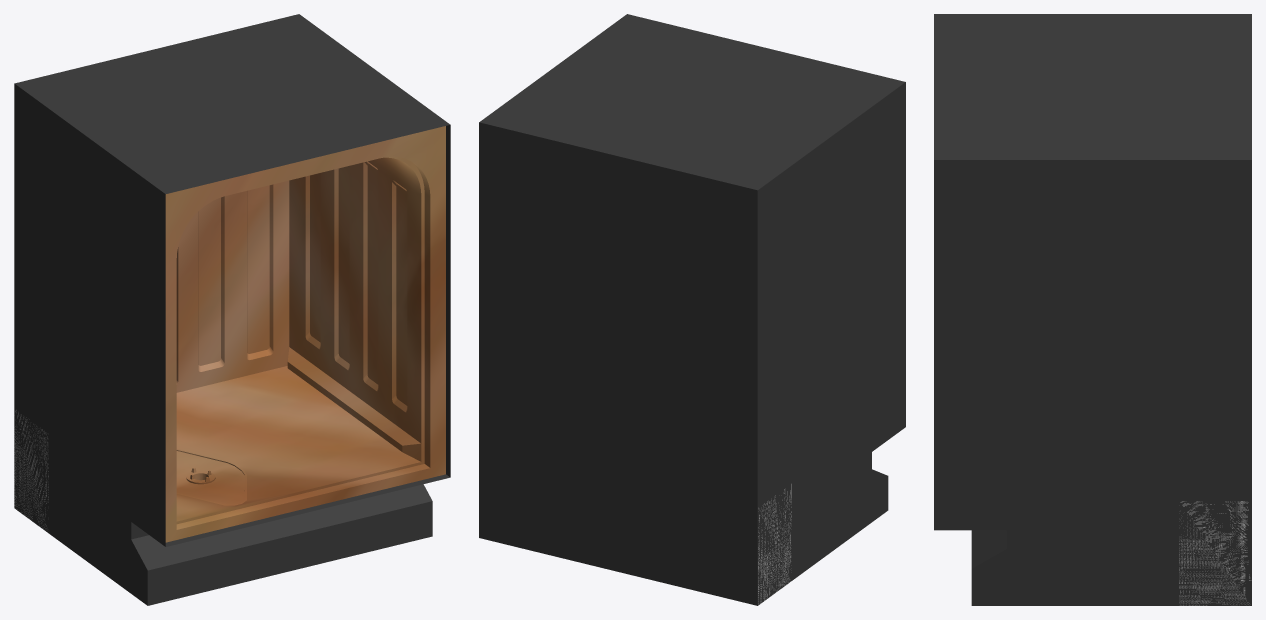
File: original-287.obj
3 renders of one model, left to right at view 1: azimuth 30°, elevation 25°; view 2: azimuth 150°, elevation 25°; view 3: azimuth 270°, elevation 25°, orthographic. The views are drawn at different scales.
Parts seen in each view (by area): view 1: mesh201/mesh201-geometry#mesh201-geometry; view 2: mesh201/mesh201-geometry#mesh201-geometry; view 3: mesh201/mesh201-geometry#mesh201-geometry.
Boxes of the visible parts, x1,y1,x2,y2 form: mesh201/mesh201-geometry#mesh201-geometry: (14, 14, 450, 605); mesh201/mesh201-geometry#mesh201-geometry: (479, 14, 905, 605); mesh201/mesh201-geometry#mesh201-geometry: (934, 14, 1251, 605).
Bounding box in the file's own units: 1.02 × 1.45 × 0.9342.
